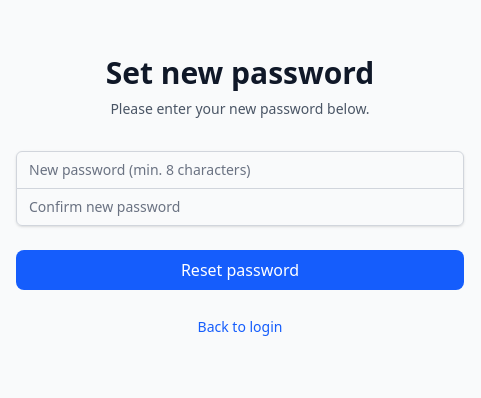
Scenario: ResetPasswordPage Component › should show error when passwords do not match
The image size is (481, 398).
Type "password123" into the password field labelled "New password" at (240, 170), box [16,150,464,188]
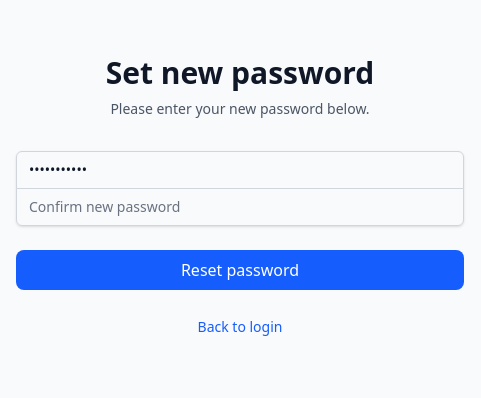
Type "different123" into the password field named "Confirm Password" at (240, 206), box [16,188,464,226]
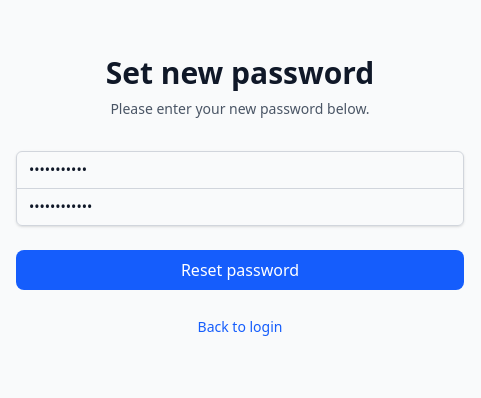
Click the button "Reset password" at (240, 270), box [16,250,464,290]
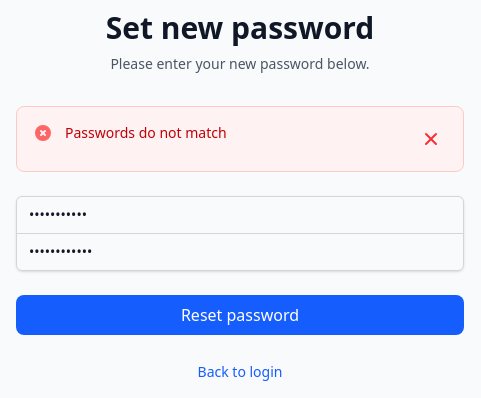
Expected: the text "Passwords do not match" is shown, [65,122,227,142]
